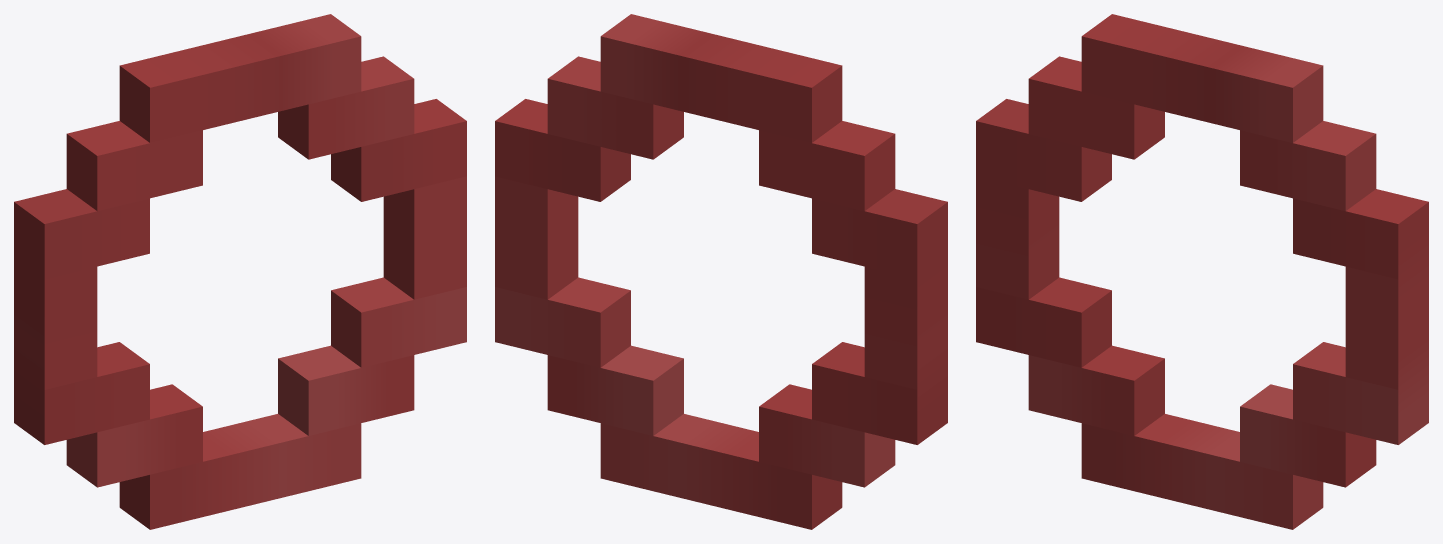
File: Altar_BloodMeter_11.fbx
3 renders of one model, left to right at view 1: azimuth 30°, elevation 25°; view 2: azimuth 150°, elevation 25°; view 3: azimuth 330°, elevation 25°, orthographic.
Parts seen in each view (by area): view 1: Altar_BloodMeter_11; view 2: Altar_BloodMeter_11; view 3: Altar_BloodMeter_11.
Boxes of the visible parts, x1,y1,x2,y2 form: Altar_BloodMeter_11: (14,14,466,529); Altar_BloodMeter_11: (495,14,947,529); Altar_BloodMeter_11: (976,14,1428,529).
Bounding box in the file's own units: 8 × 8 × 1.
Materials: 1 (1 with a texture image).
